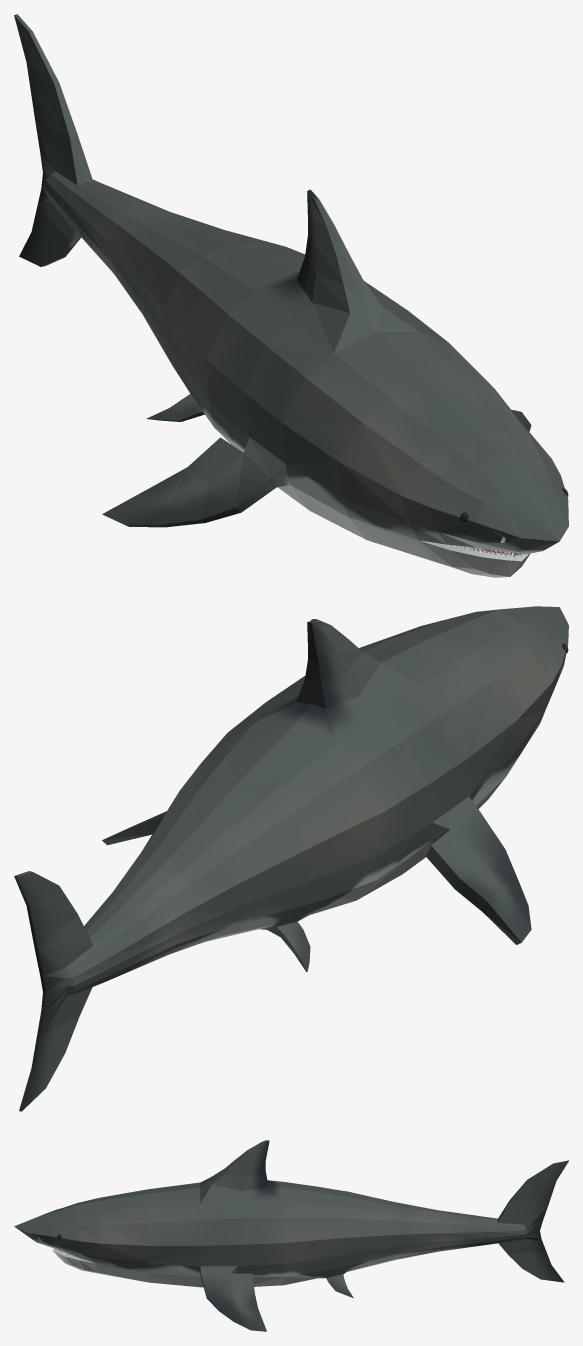
The model's file is shark.glb.
The picture shows the model from 3 angles, top to bottom: view 1: azimuth 30°, elevation 25°; view 2: azimuth 150°, elevation 25°; view 3: azimuth 270°, elevation 25°; orthographic projection. The views are drawn at different scales.
Visible parts, largest first — view 1: Node; view 2: Node; view 3: Node.
Boxes of the visible parts, <box> form: Node: <box>14,14,568,577</box>; Node: <box>14,606,568,1111</box>; Node: <box>14,1140,568,1331</box>.
Bounding box in the file's own units: 3.55 × 2.25 × 7.96.
Materials: 4 (1 with a texture image).
